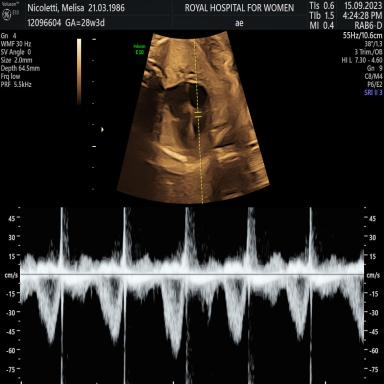Ultrasound-Waves: (24, 205, 362, 384)
